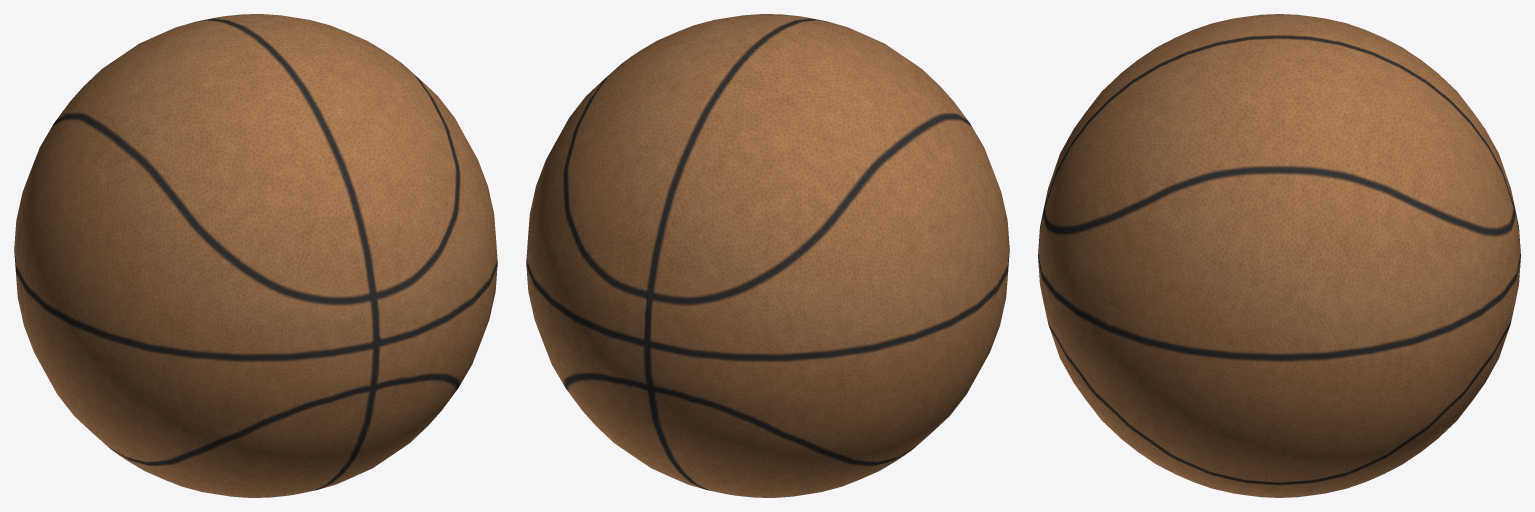
Rendered from generic_basketball.glb.
The picture shows the model from 3 angles, left to right: view 1: azimuth 30°, elevation 25°; view 2: azimuth 150°, elevation 25°; view 3: azimuth 270°, elevation 25°; orthographic projection.
Parts seen in each view (by area): view 1: BasketBall; view 2: BasketBall; view 3: BasketBall.
Part boxes in pixels (left/top/right/bottom): BasketBall: left=14, top=14, right=497, bottom=497; BasketBall: left=526, top=14, right=1009, bottom=497; BasketBall: left=1038, top=14, right=1520, bottom=497.
Size of the model in its own units: 0.23 by 0.2296 by 0.2293.
Materials: 1 (1 with a texture image).
